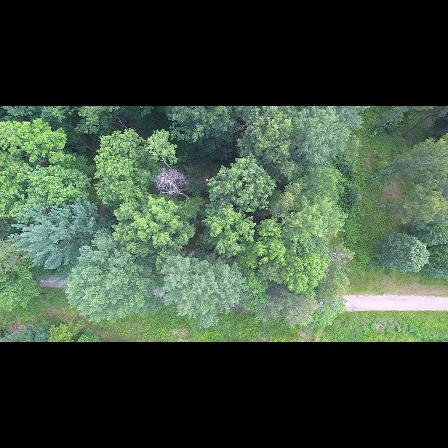Dead: (153, 165, 192, 202)
